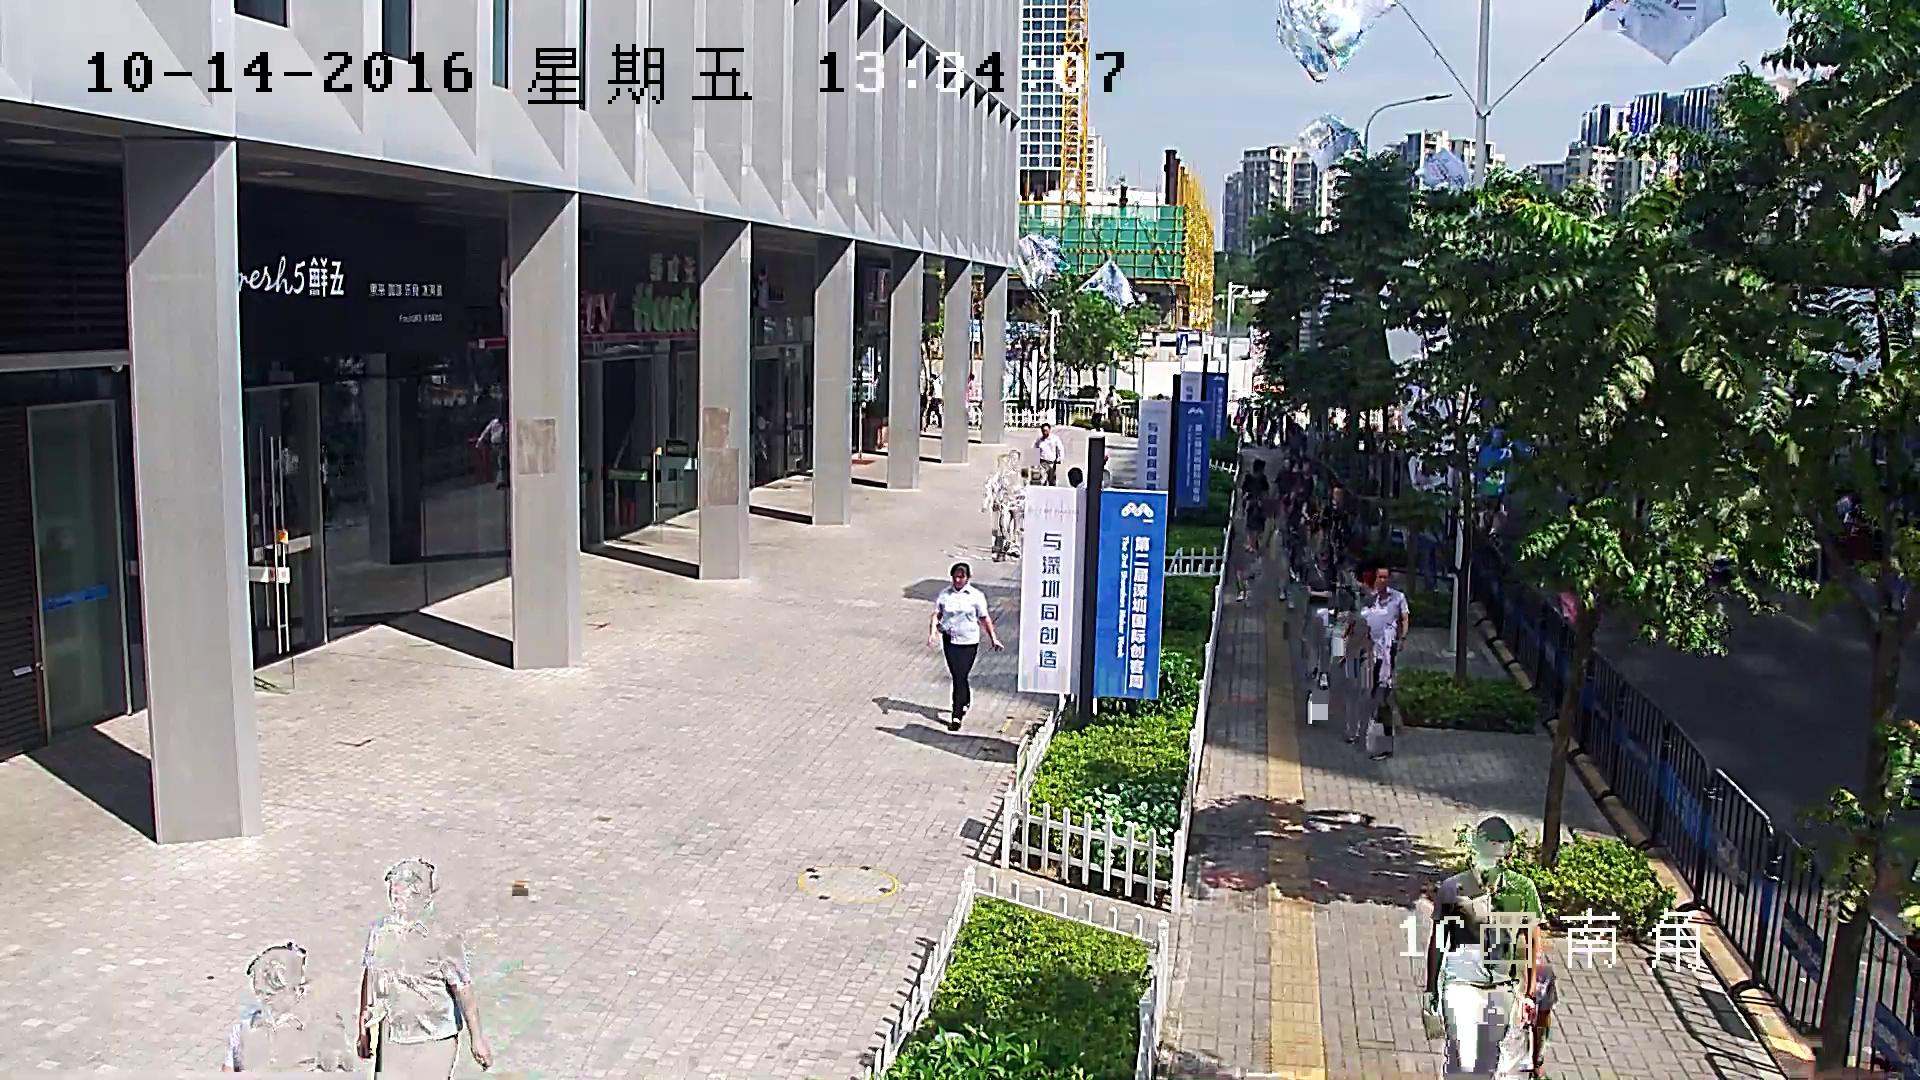person: (1421, 816, 1547, 1080), (358, 859, 492, 1080), (221, 944, 358, 1073), (927, 562, 1004, 728), (1345, 566, 1410, 761), (1304, 541, 1338, 688), (1275, 497, 1311, 609), (992, 450, 1024, 555), (1318, 484, 1353, 578), (1240, 459, 1270, 552), (475, 415, 506, 490), (1033, 422, 1064, 486), (1271, 457, 1297, 522), (280, 446, 303, 508), (1285, 416, 1305, 471), (755, 404, 772, 474), (926, 373, 941, 428), (1232, 396, 1247, 443), (1106, 385, 1122, 431), (1301, 456, 1315, 509), (1091, 387, 1104, 432), (1266, 413, 1278, 448), (1245, 404, 1255, 443), (1255, 400, 1263, 447), (967, 373, 975, 396)
